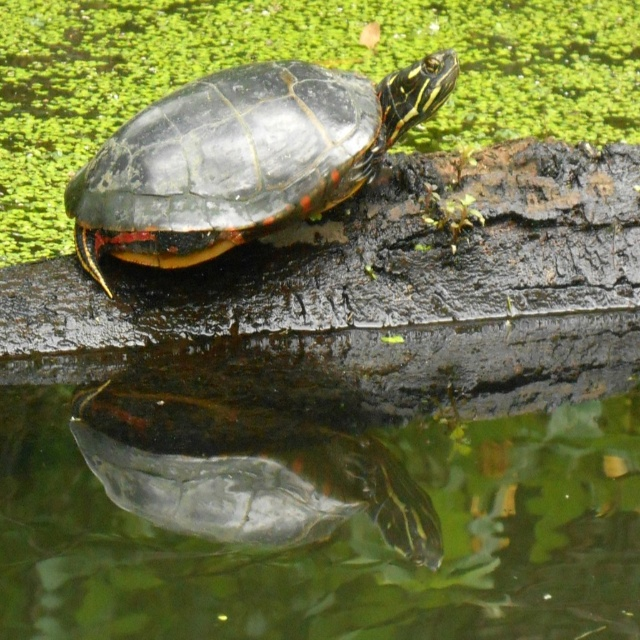Sea turtle: (61, 46, 465, 296)
